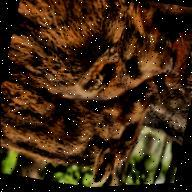boar: (0, 0, 191, 128), (0, 47, 166, 192)
